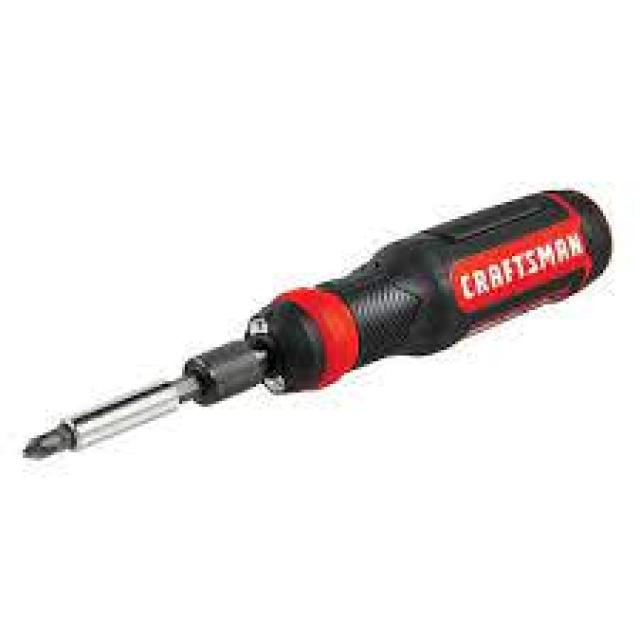Screwdriver: (24, 191, 611, 457)
